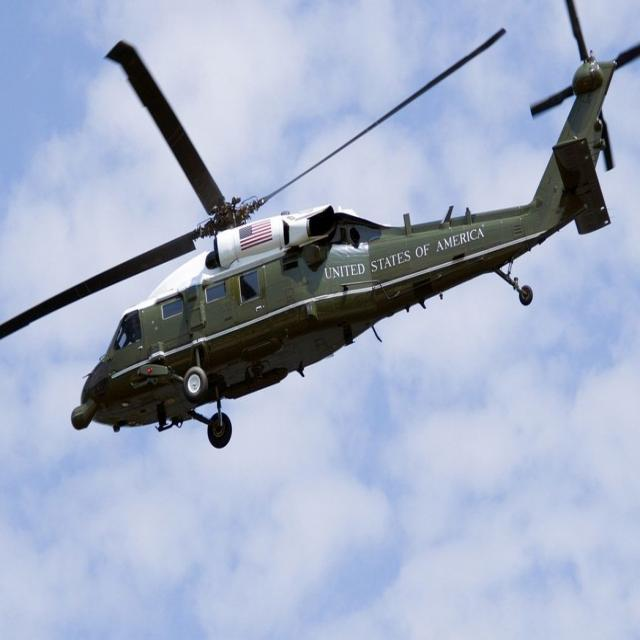helicopter: (1, 1, 640, 467)
